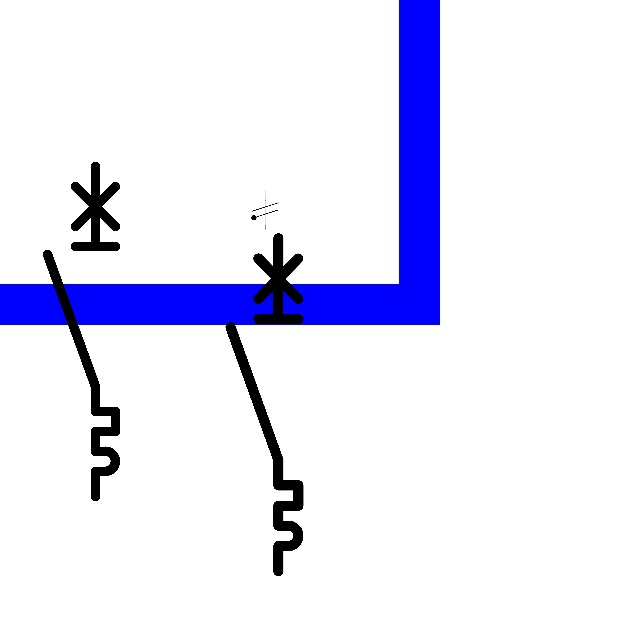interruptor_termomagnetico: (222, 229, 307, 579), (39, 158, 124, 505)
